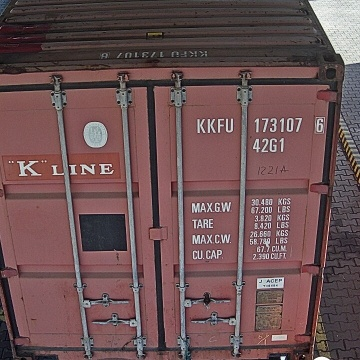serial_id: (197, 117, 325, 132)
